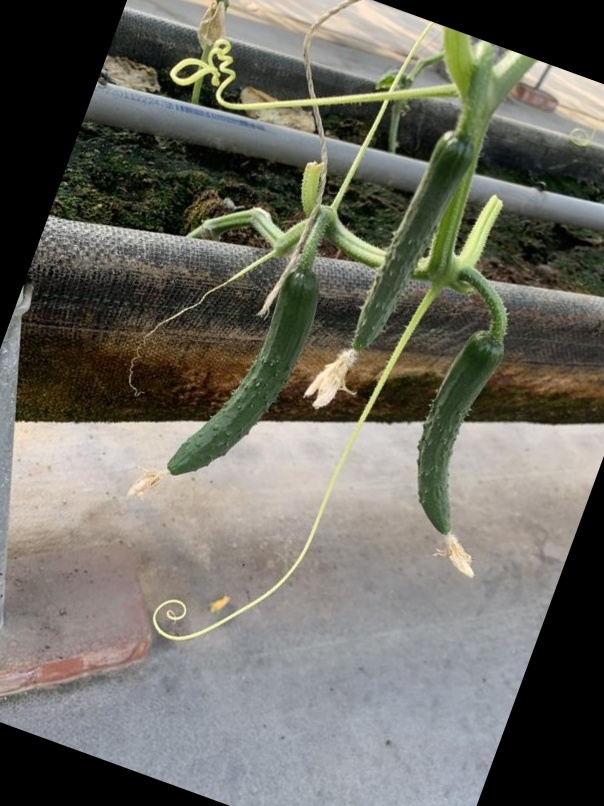growth: (152, 267, 324, 477), (341, 129, 472, 359), (400, 327, 505, 568)
